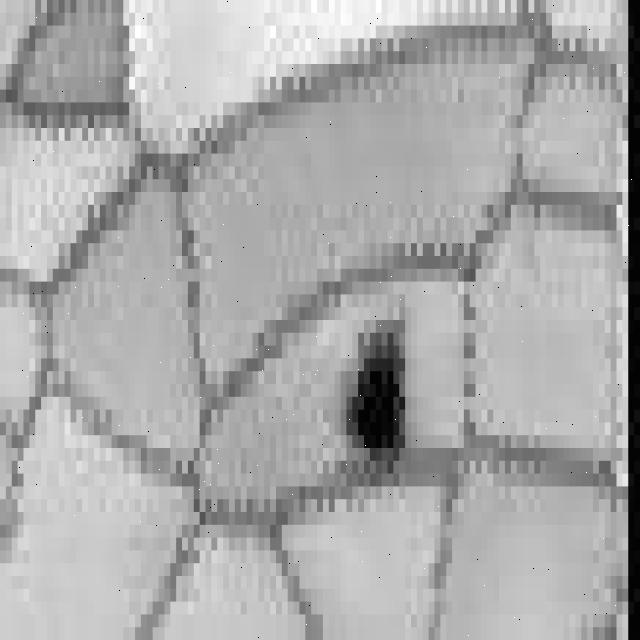good_void: (338, 302, 421, 490)
